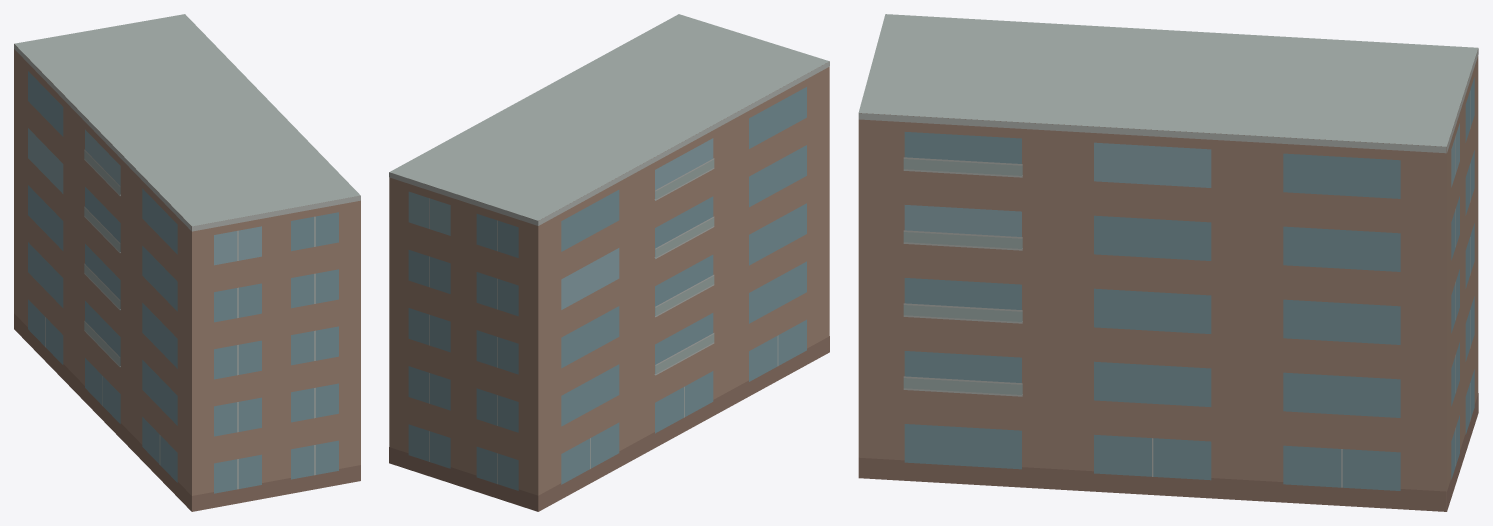
File: survey-upis-32682933.glb
3 views of the same model, side by side, from view 1: azimuth 30°, elevation 25°; view 2: azimuth 150°, elevation 25°; view 3: azimuth 270°, elevation 25° (orthographic). The views are drawn at different scales.
Visible parts, largest first — view 1: survey-upis-32682933.tmp; view 2: survey-upis-32682933.tmp; view 3: survey-upis-32682933.tmp.
Part boxes in pixels (left/top/right/bottom): survey-upis-32682933.tmp: left=14, top=14, right=360, bottom=511; survey-upis-32682933.tmp: left=389, top=14, right=829, bottom=511; survey-upis-32682933.tmp: left=858, top=14, right=1478, bottom=511.
Size of the model in its own units: 10.61 by 13.6 by 20.94.
